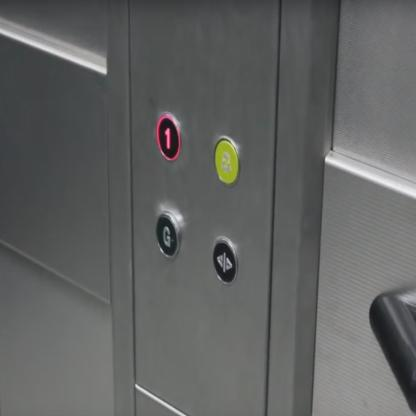1: (155, 111, 181, 162)
G: (155, 209, 181, 259)
alarm: (213, 134, 241, 186)
open: (212, 235, 238, 286)
